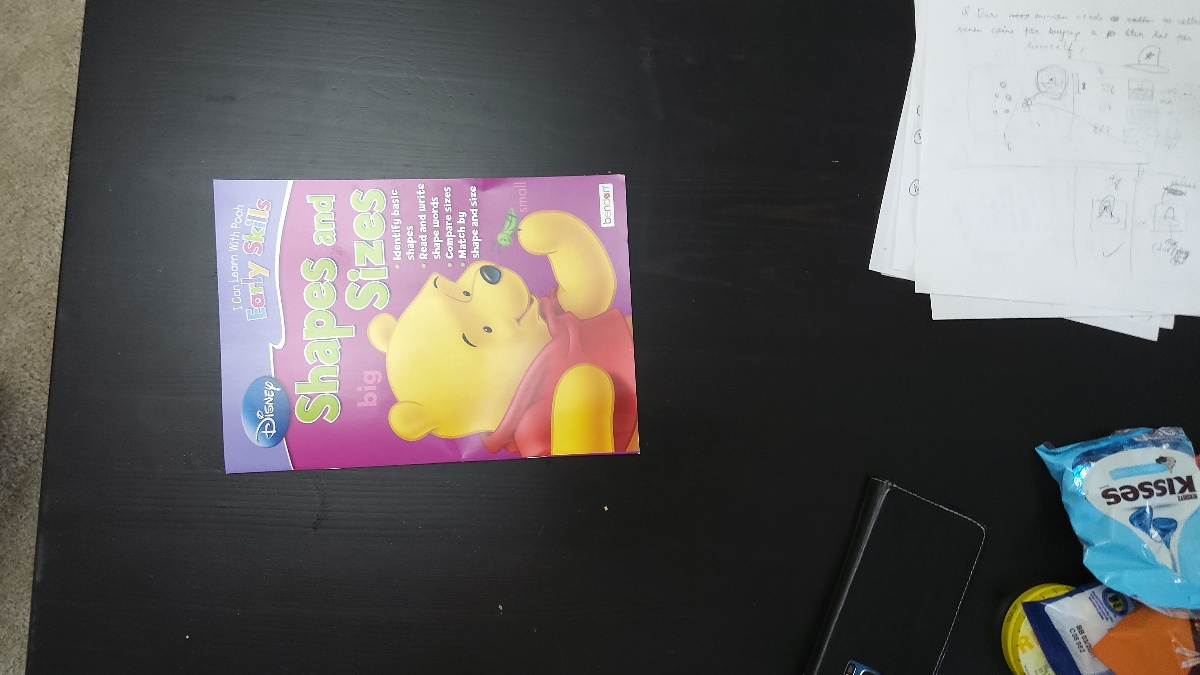book: (217, 184, 634, 452)
